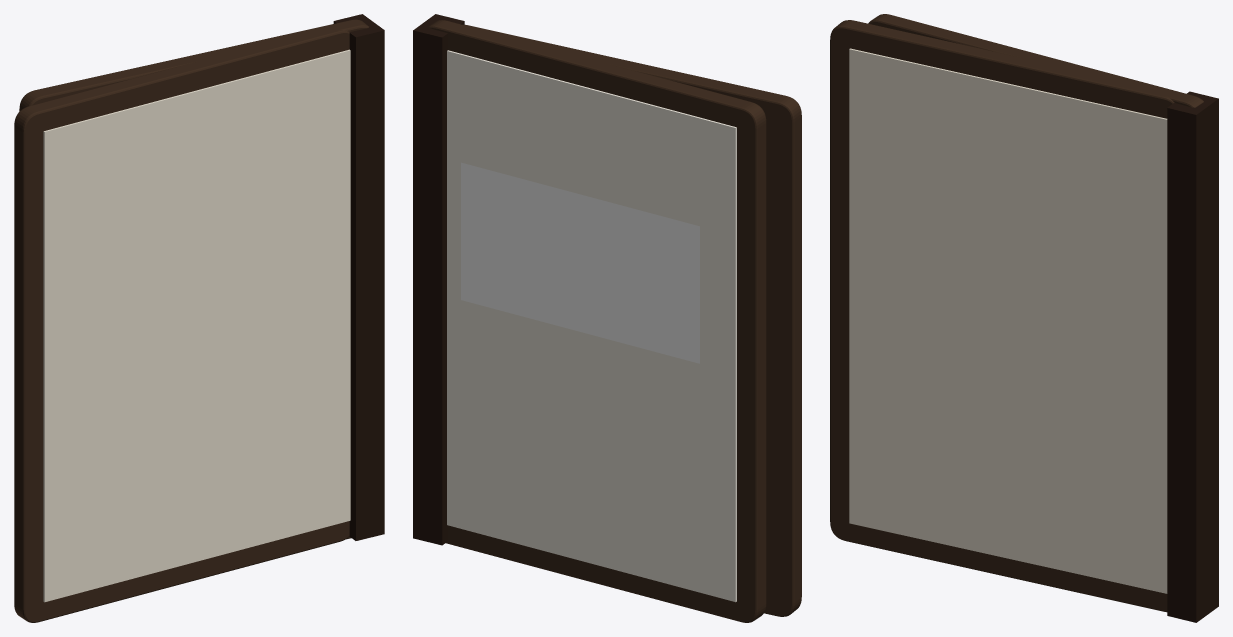
Rendered from journal.glb.
3 views of the same model, side by side, from view 1: azimuth 30°, elevation 25°; view 2: azimuth 150°, elevation 25°; view 3: azimuth 330°, elevation 25° (orthographic).
Parts seen in each view (by area): view 1: PageLeftMesh, CoverLeftMesh, Spine, CoverRightMesh; view 2: PageRightMesh, InkPlane, CoverRightMesh, CoverLeftMesh, Spine; view 3: PageLeftMesh, Spine, CoverLeftMesh, CoverRightMesh.
Boxes of the visible parts, left/top/right/bottom form: PageLeftMesh: left=43, top=49, right=350, bottom=602; CoverLeftMesh: left=14, top=26, right=349, bottom=622; Spine: left=333, top=14, right=384, bottom=540; CoverRightMesh: left=19, top=19, right=368, bottom=539; PageRightMesh: left=447, top=50, right=736, bottom=602; InkPlane: left=461, top=162, right=699, bottom=363; CoverRightMesh: left=428, top=20, right=766, bottom=622; CoverLeftMesh: left=461, top=24, right=801, bottom=616; Spine: left=413, top=14, right=464, bottom=545; PageLeftMesh: left=849, top=48, right=1167, bottom=593; Spine: left=1167, top=91, right=1218, bottom=622; CoverLeftMesh: left=830, top=20, right=1174, bottom=612; CoverRightMesh: left=868, top=14, right=1203, bottom=107.
Bounding box in the file's own units: 1.13 × 1.52 × 0.1423.
